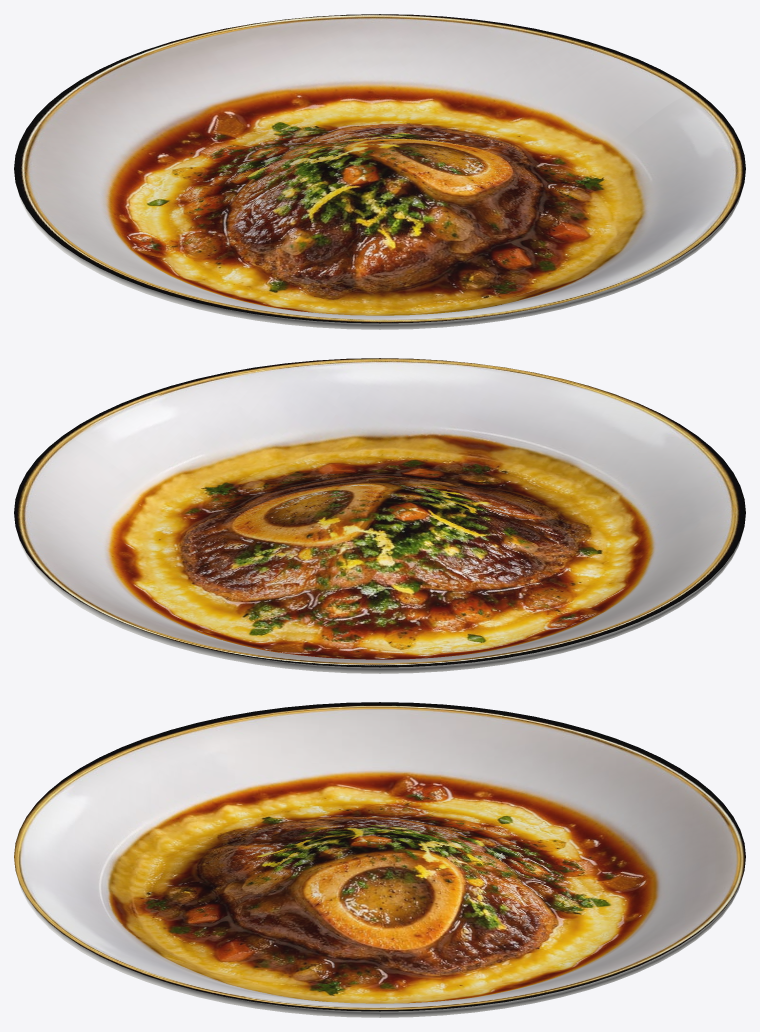
File: ossobuco.glb
3 renders of one model, top to bottom at view 1: azimuth 30°, elevation 25°; view 2: azimuth 150°, elevation 25°; view 3: azimuth 270°, elevation 25°, orthographic.
Parts seen in each view (by area): view 1: dish; view 2: dish; view 3: dish.
Boxes of the visible parts, x1,y1,x2,y2 form: dish: [14, 14, 745, 329]; dish: [14, 358, 745, 673]; dish: [14, 702, 745, 1017].
Bounding box in the file's own units: 0.28 × 0.0275 × 0.28.
2 materials, 1 textured.
